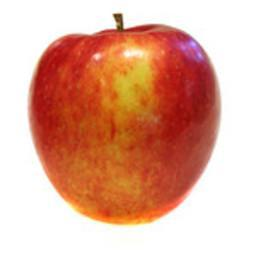apple: (27, 18, 218, 225)
